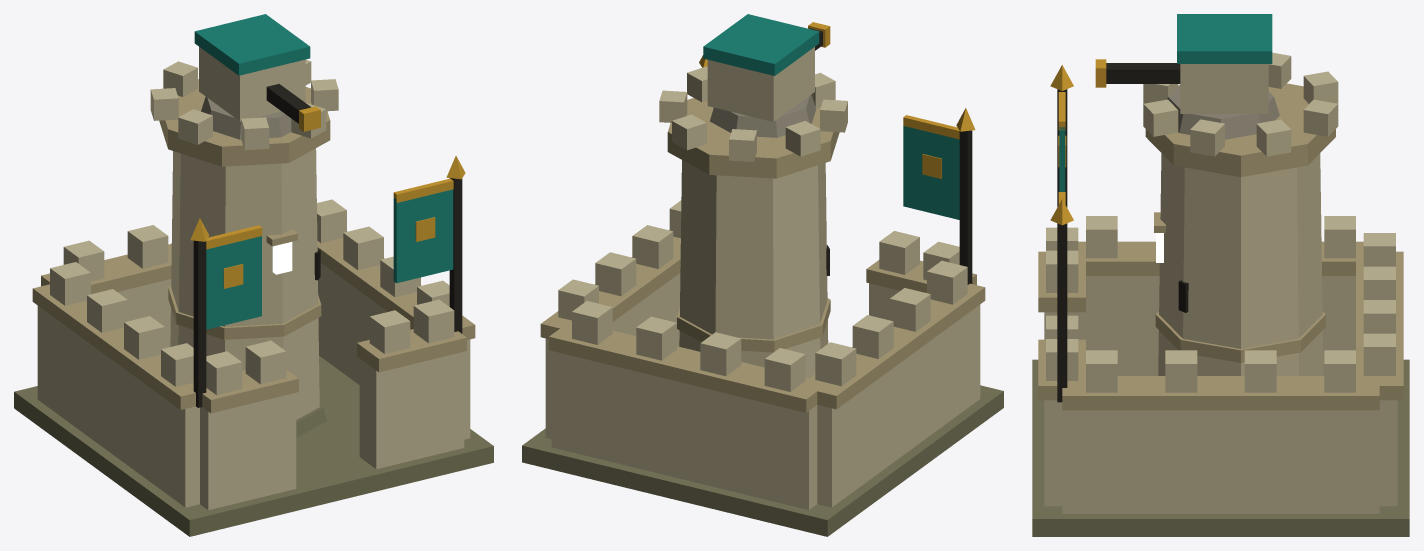
The model's file is outpost_t2.glb.
The picture shows the model from 3 angles, left to right: view 1: azimuth 30°, elevation 25°; view 2: azimuth 150°, elevation 25°; view 3: azimuth 270°, elevation 25°; orthographic projection. The views are drawn at different scales.
Parts seen in each view (by area): view 1: body, part_turret, glow; view 2: body, part_turret; view 3: body, part_turret.
Part boxes in pixels (left/top/right/bottom): body: left=14, top=60, right=493, bottom=536; part_turret: left=194, top=14, right=320, bottom=139; glow: left=272, top=242, right=292, bottom=274; body: left=522, top=55, right=1003, bottom=536; part_turret: left=703, top=14, right=830, bottom=137; body: left=1032, top=52, right=1409, bottom=536; part_turret: left=1095, top=14, right=1279, bottom=139.
Size of the model in its own units: 1.9 by 2.36 by 1.9.
